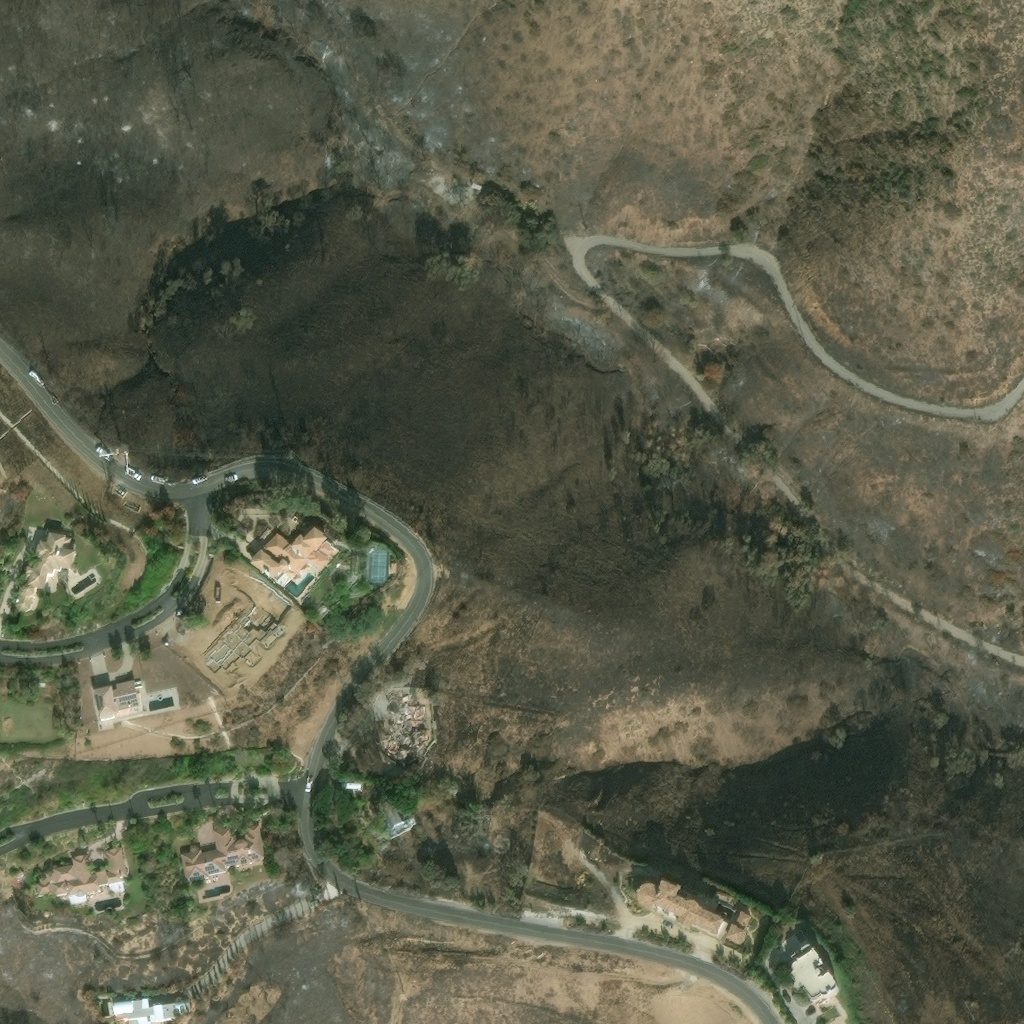0 no-damage: (13, 842, 131, 907), (177, 811, 265, 881), (248, 524, 340, 586), (634, 874, 723, 935), (14, 529, 76, 613), (782, 941, 837, 1000), (96, 993, 188, 1023), (93, 676, 145, 720), (376, 789, 405, 826), (722, 908, 753, 942), (344, 779, 364, 787)
3 destroyed: (383, 699, 422, 752), (492, 828, 509, 846), (470, 181, 484, 189)
